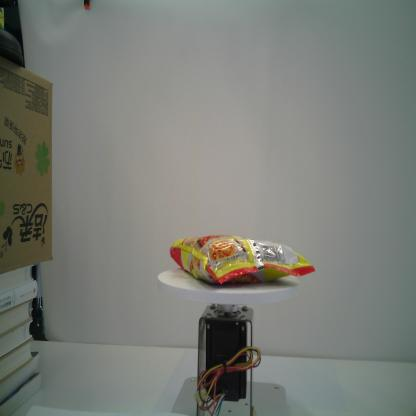Instant Noodles: (170, 234, 316, 285)
